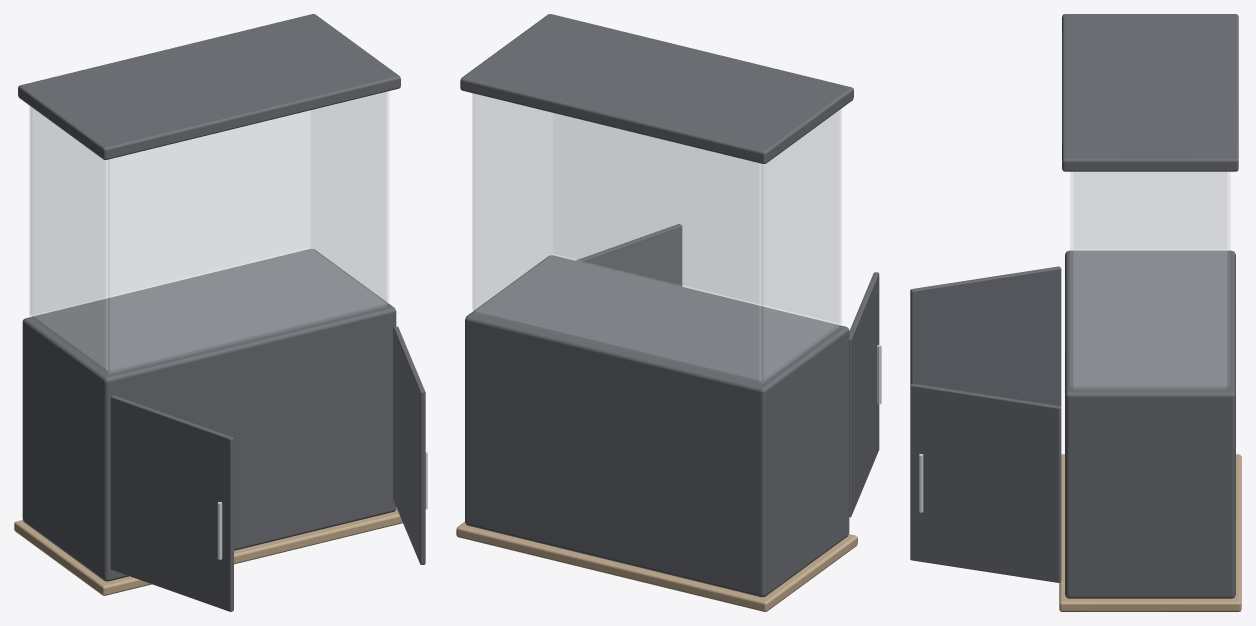
File: human-anatomy-and-education-kit-display-case-open-b97d1c5a__38967.glb
3 views of the same model, side by side, from view 1: azimuth 30°, elevation 25°; view 2: azimuth 150°, elevation 25°; view 3: azimuth 270°, elevation 25° (orthographic). The views are drawn at different scales.
Visible parts, largest first — view 1: display-case-open, door-case-left, door-case-right; view 2: display-case-open, door-case-left, door-case-right; view 3: display-case-open, door-case-right, door-case-left.
Boxes of the visible parts, x1,y1,x2,y2 form: display-case-open: (14, 14, 402, 595); door-case-left: (110, 395, 233, 611); door-case-right: (393, 326, 425, 564); display-case-open: (456, 14, 857, 611); door-case-left: (849, 272, 879, 517); door-case-right: (576, 224, 682, 286); display-case-open: (1059, 14, 1241, 611); door-case-right: (910, 383, 1061, 582); door-case-left: (910, 266, 1061, 406).
Size of the model in its own units: 1.24 by 1.75 by 1.16.
